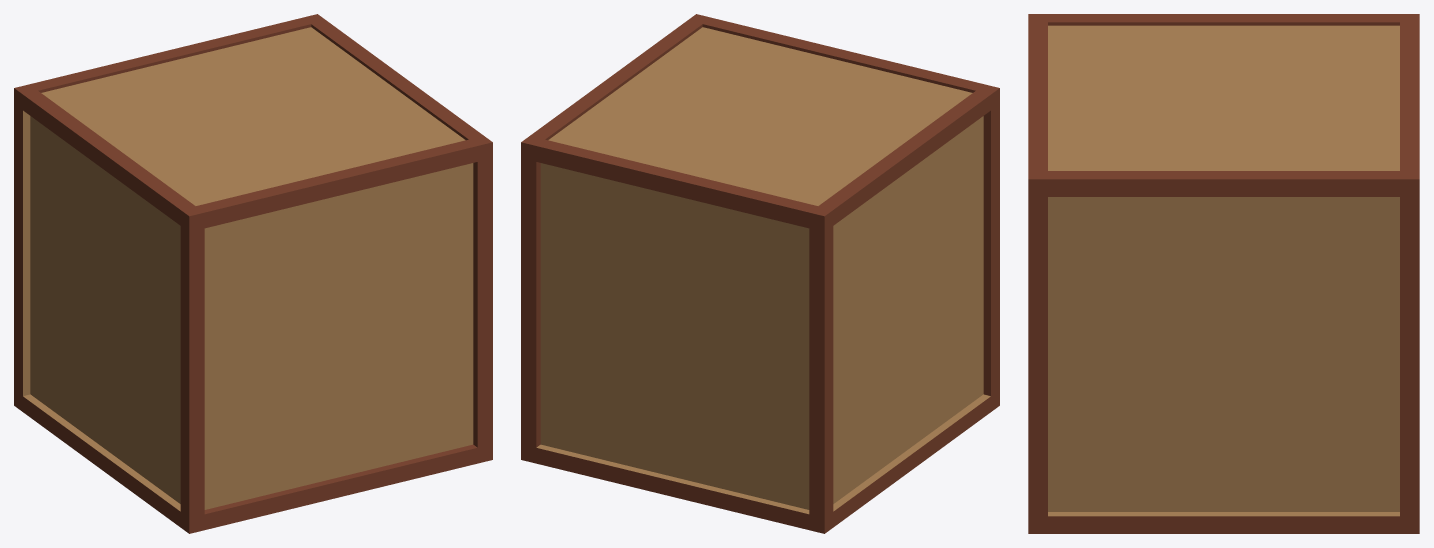
The model's file is SingleDisplay.fbx.
The picture shows the model from 3 angles, left to right: view 1: azimuth 30°, elevation 25°; view 2: azimuth 150°, elevation 25°; view 3: azimuth 270°, elevation 25°; orthographic projection. The views are drawn at different scales.
Visible parts, largest first — view 1: SingleDisplay; view 2: SingleDisplay; view 3: SingleDisplay.
Boxes of the visible parts, x1,y1,x2,y2 form: SingleDisplay: [14, 14, 492, 533]; SingleDisplay: [521, 14, 999, 533]; SingleDisplay: [1028, 14, 1419, 533].
Size of the model in its own units: 200 by 200 by 200.
